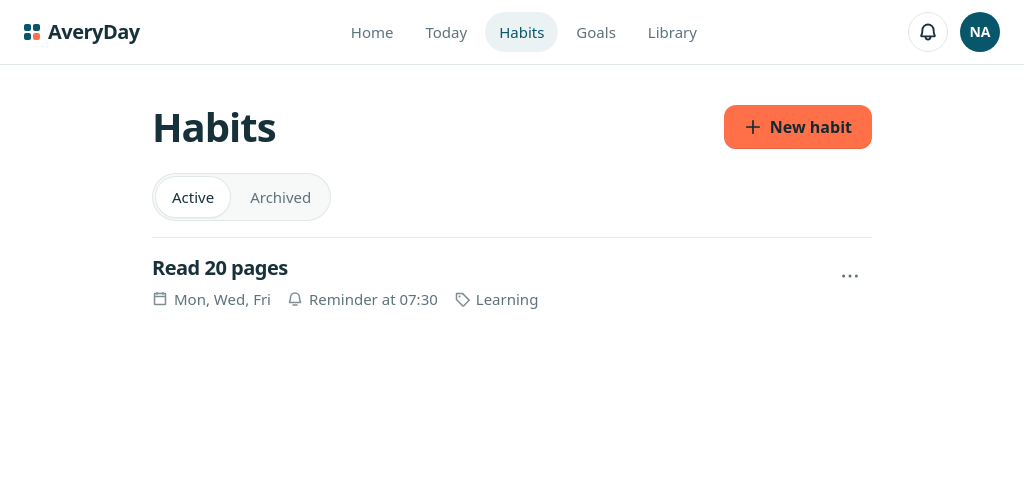
Test: archiving › archives, confirms, and undoes
What coordinates should you click on to do the following:
click the button named "More for Read 20 pages"
I would click on:
 (850, 276)
Its box is top-left (828, 254), bottom-right (872, 298).
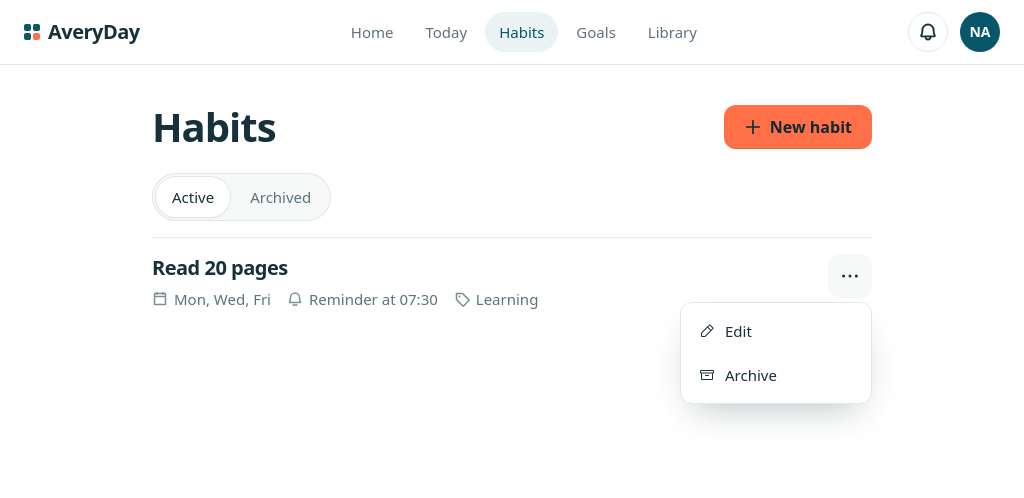
What coordinates should you click on to do the following:
click the menu item "Archive"
I would click on:
 (738, 375)
Its box is top-left (699, 365), bottom-right (777, 385).
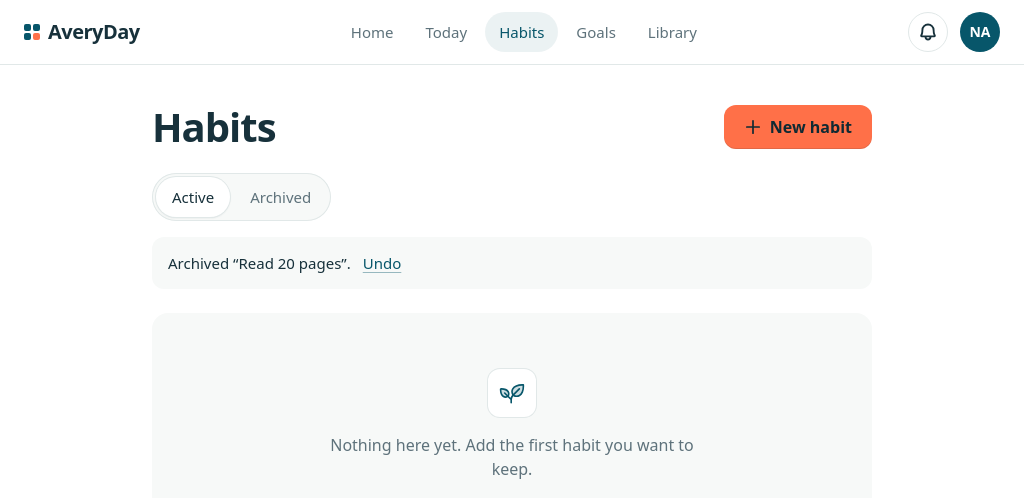
Result: the message shows "Archived “Read 20 pages”." at top-left (152, 237), bottom-right (872, 289)
Result: the text "Nothing here yet. Add the first habit you want to keep." is shown at top-left (320, 433), bottom-right (704, 481)
What coordinates should you click on to do the following:
click the button "Undo"
I would click on:
 (382, 263)
Its box is top-left (363, 245), bottom-right (401, 281).
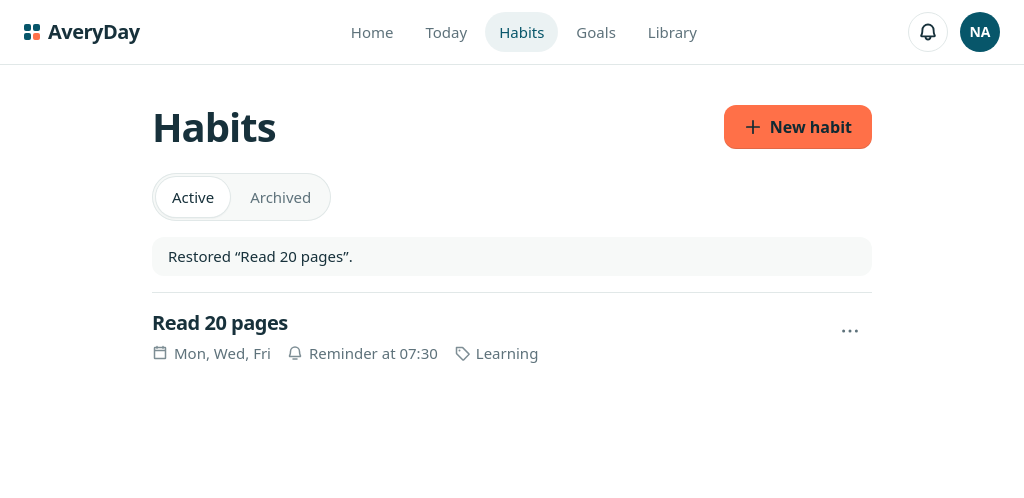
Result: the heading "Read 20 pages" is shown at top-left (152, 308), bottom-right (288, 336)
